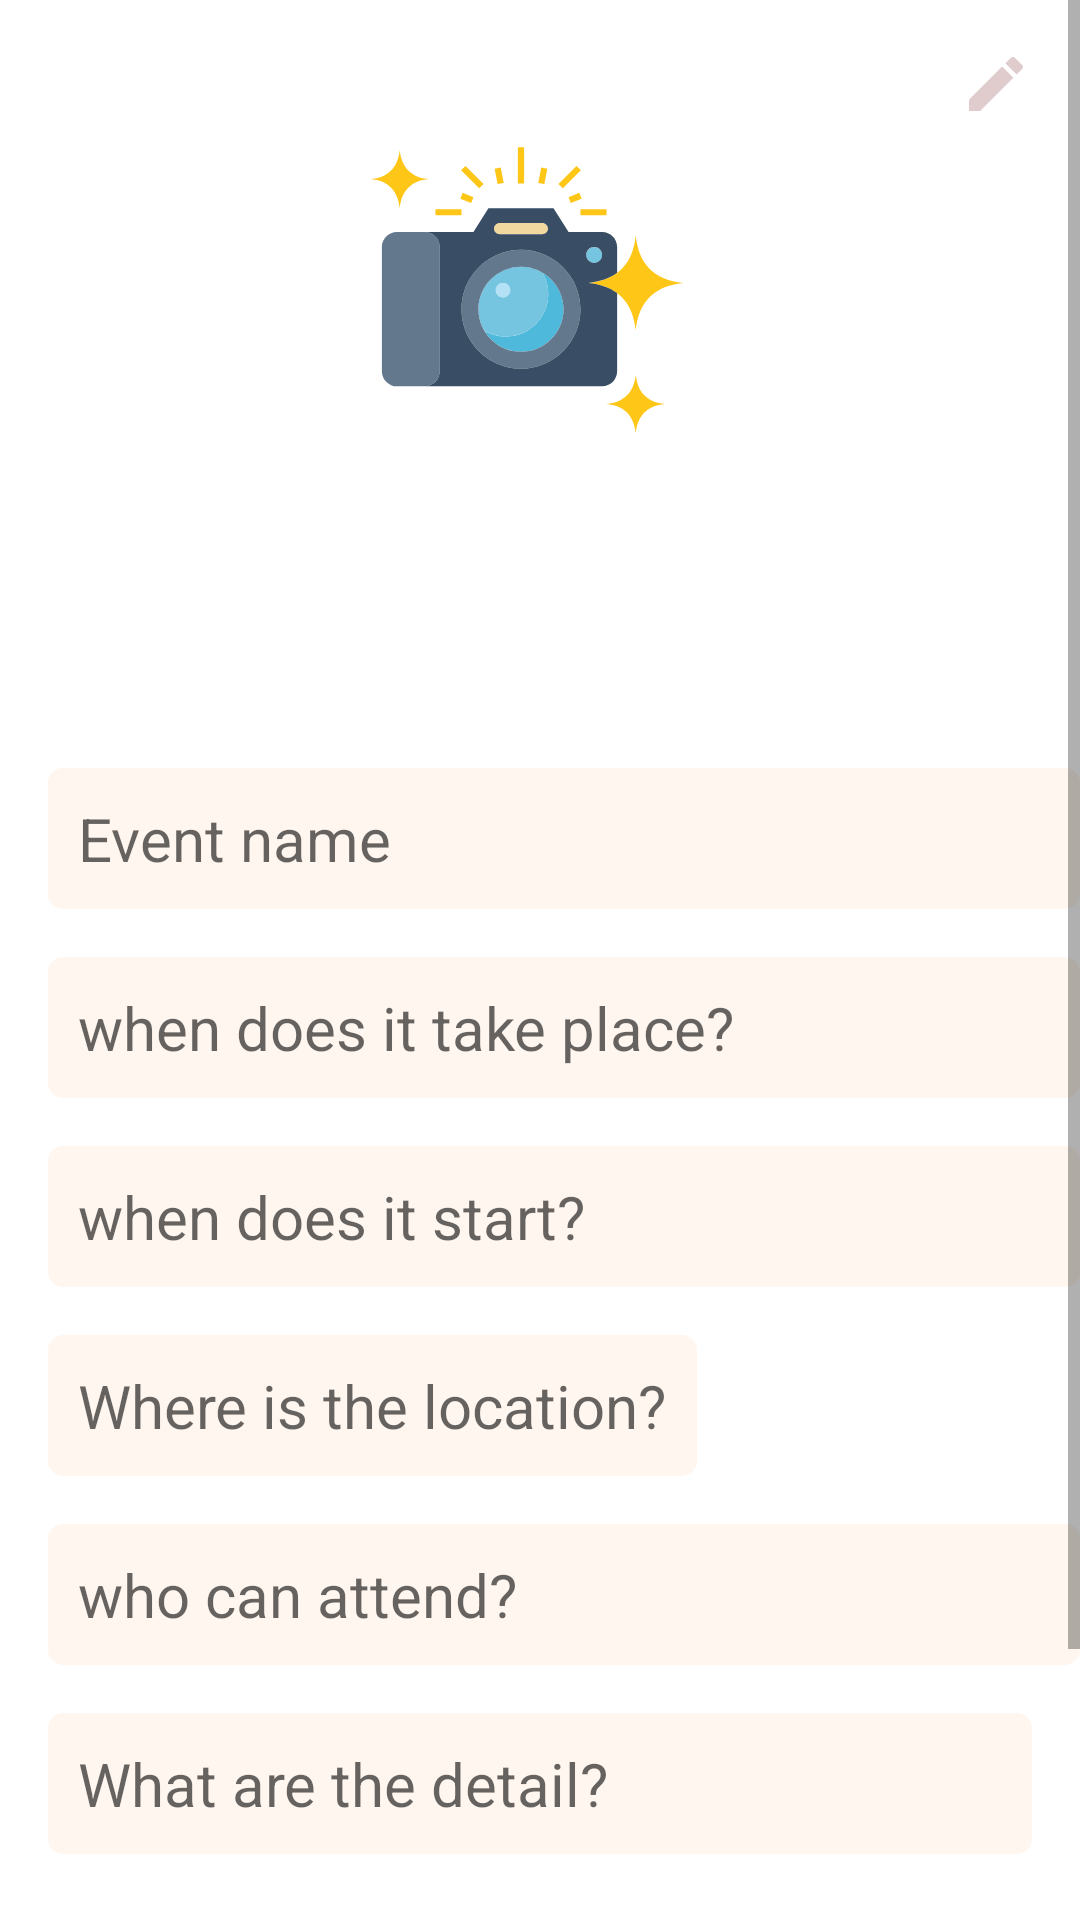

Named icons in this screenshot (1080px x 1920px) and their bounding boxes, bbox=(x1, y1, x2, y2):
edit: bbox=(969, 57, 1023, 111)
